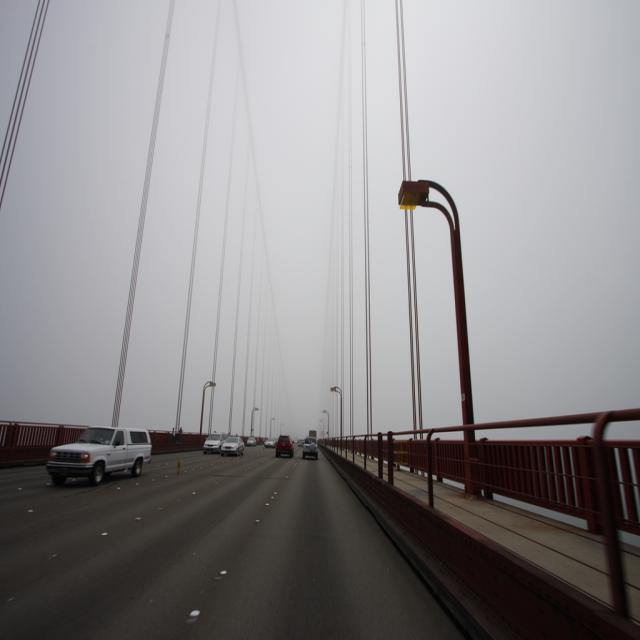car: (43, 427, 150, 485)
